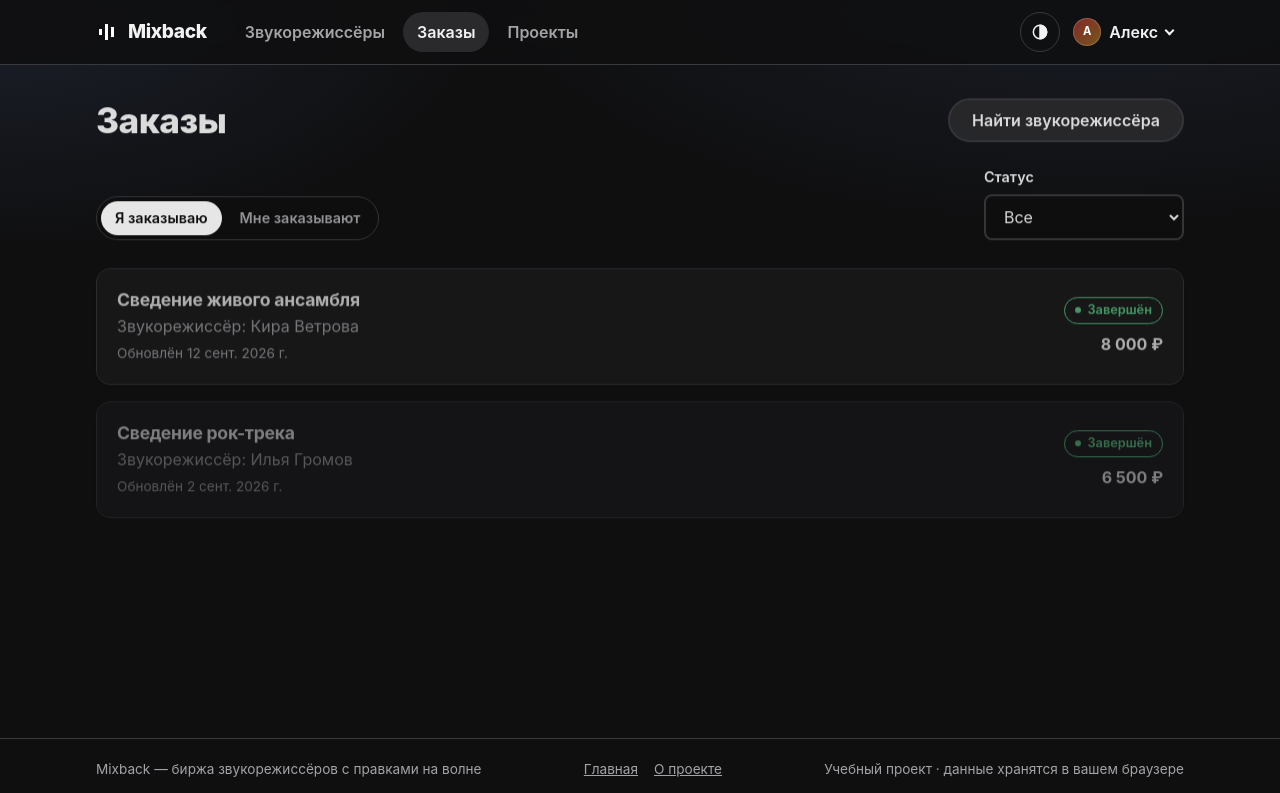
Test: меню аккаунта › логотип ведёт на главную с описанием сервиса
The width and height of the screenshot is (1280, 793).
Click the link with aria-label "Mixback — на главную" at (151, 32), box [96,17,207,47]
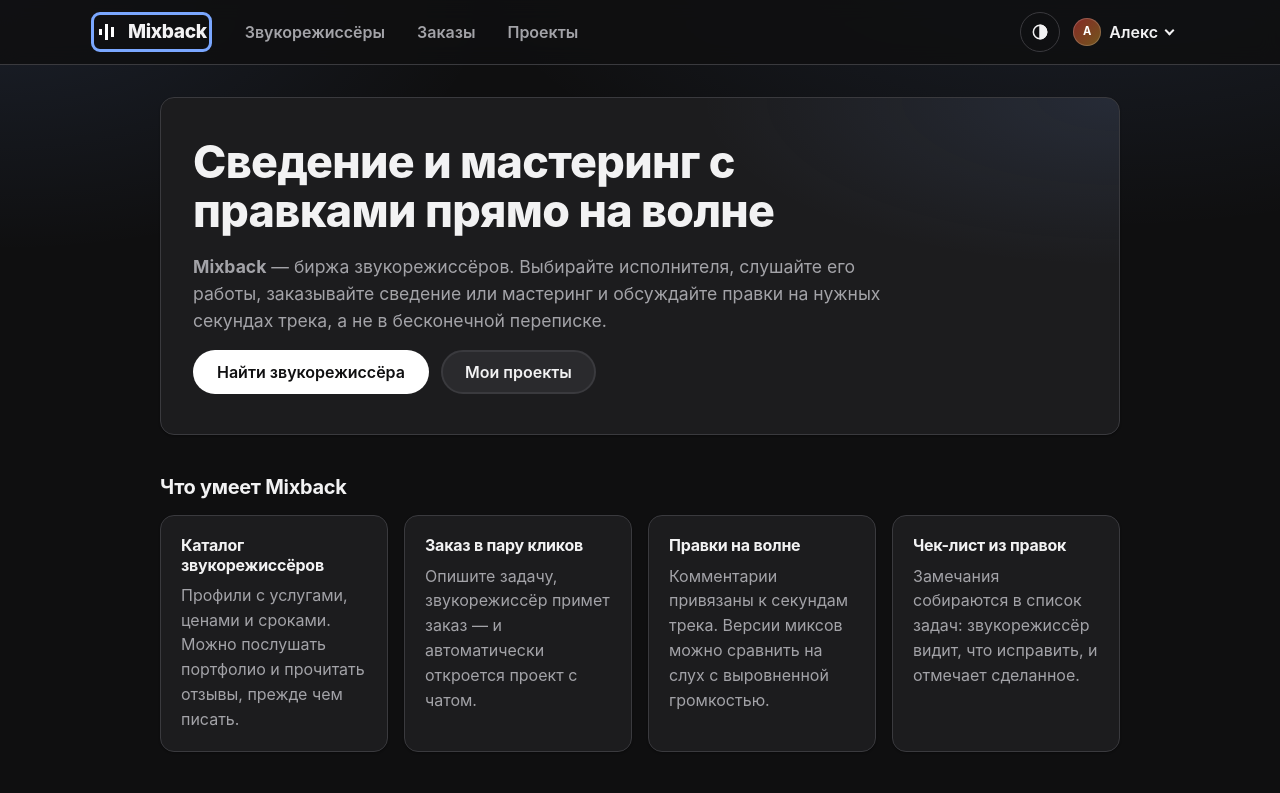
expect the heading "Сведение и мастеринг с правками прямо на волне" is shown: met, box [193,138,813,236]
